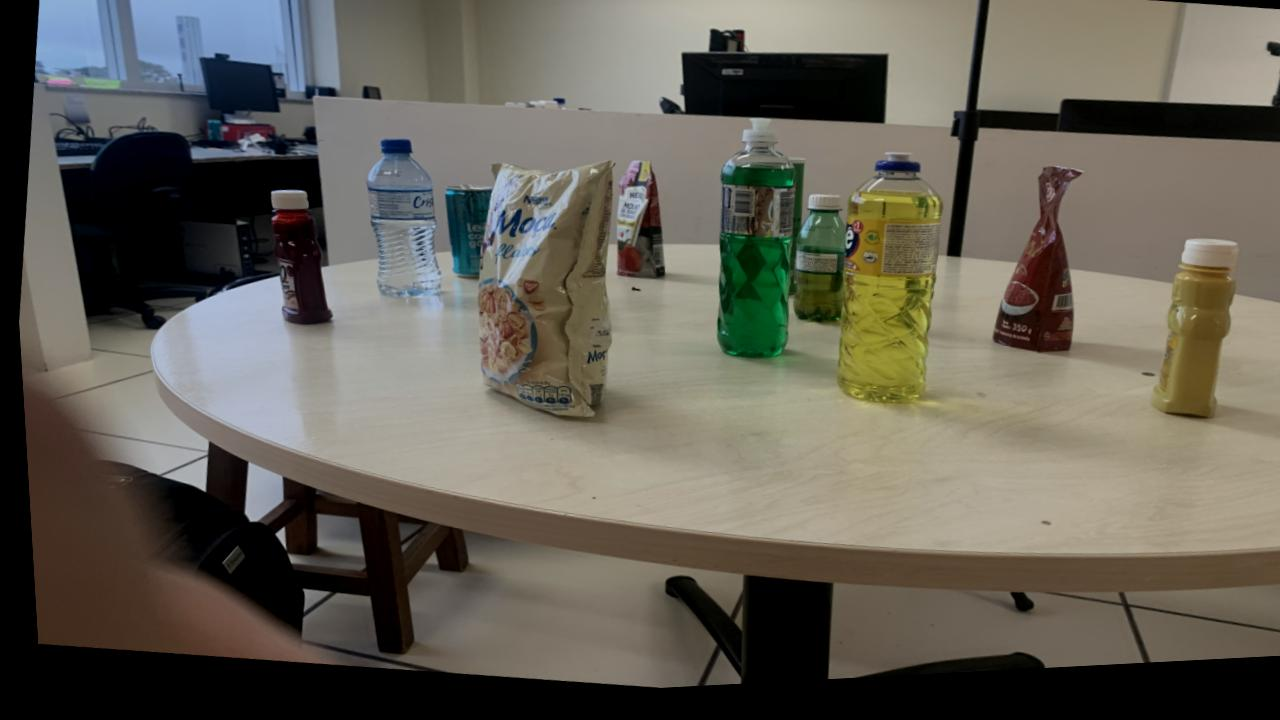Detergent-Cleanup_Items: (833, 163, 940, 413), (712, 126, 793, 366)
Flakes-Snacks: (473, 168, 611, 423)
Guarana-Drinks: (789, 203, 843, 331)
Ketchup-Pantry_Items: (267, 192, 327, 328)
Mustard-Pantry_Items: (1145, 251, 1235, 431)
Pringles-Snacks: (787, 166, 802, 275), (785, 284, 791, 301)
Tea-Drinks: (443, 192, 489, 283)
Tomato_Sauce-Pantry_Items: (987, 178, 1080, 364), (613, 167, 662, 286)
Water_Bottle-Drinks: (364, 142, 438, 301)
